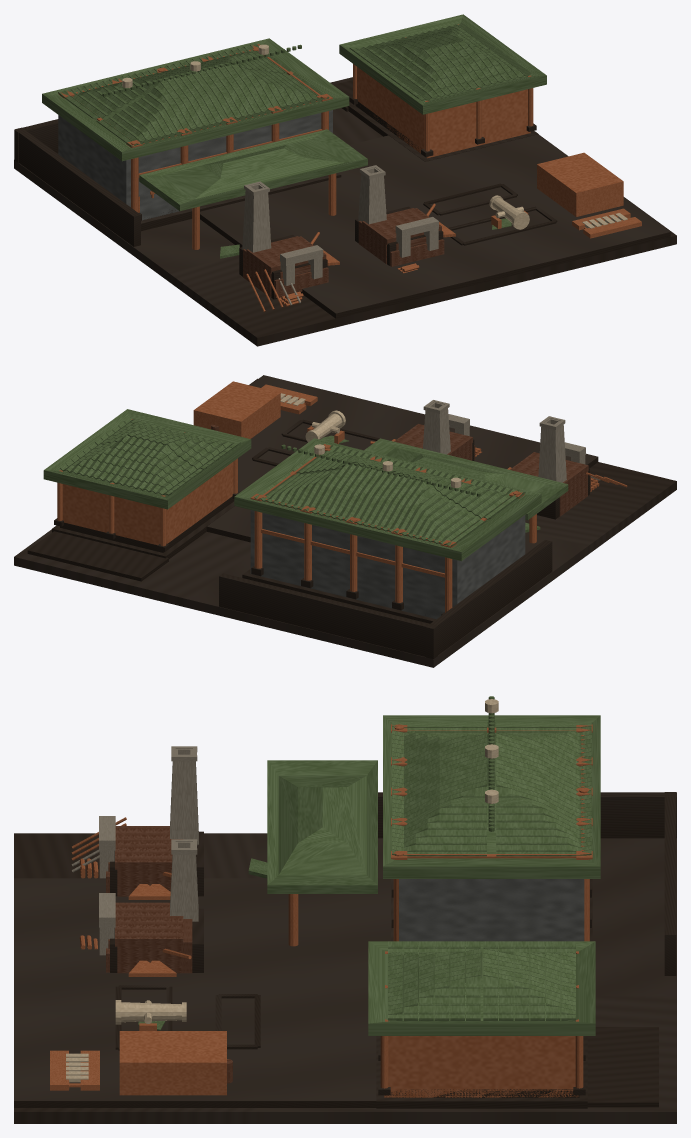
3 renders of one model, top to bottom at view 1: azimuth 30°, elevation 25°; view 2: azimuth 150°, elevation 25°; view 3: azimuth 270°, elevation 25°, orthographic. The views are drawn at different scales.
Parts seen in each view (by area): view 1: garrison_part_0004, garrison_part_0003, garrison_part_0001, garrison_part_0000, garrison_part_0005, garrison_part_0002, garrison_part_0006; view 2: garrison_part_0001, garrison_part_0004, garrison_part_0000, garrison_part_0003, garrison_part_0005, garrison_part_0006, garrison_part_0002; view 3: garrison_part_0004, garrison_part_0003, garrison_part_0000, garrison_part_0001, garrison_part_0005, garrison_part_0006, garrison_part_0002.
Boxes of the visible parts, x1,y1,x2,y2 form: garrison_part_0004: (42,14,546,211); garrison_part_0003: (76,50,670,318); garrison_part_0001: (14,24,538,249); garrison_part_0000: (14,77,676,346); garrison_part_0005: (242,152,623,312); garrison_part_0002: (138,104,670,318); garrison_part_0006: (489,195,641,238); garrison_part_0001: (52,419,552,658); garrison_part_0004: (43,409,568,561); garrison_part_0000: (14,378,676,667); garrison_part_0003: (60,375,598,552); garrison_part_0005: (193,381,627,516); garrison_part_0006: (261,384,345,443); garrison_part_0002: (64,435,597,552); garrison_part_0004: (267,696,600,1035); garrison_part_0003: (14,724,589,1107); garrison_part_0000: (14,833,676,1123); garrison_part_0001: (288,724,676,1108); garrison_part_0005: (71,746,232,1095); garrison_part_0006: (50,1000,186,1090); garrison_part_0002: (14,858,578,1107).
Size of the model in its own units: 2030 by 588 by 2040.
